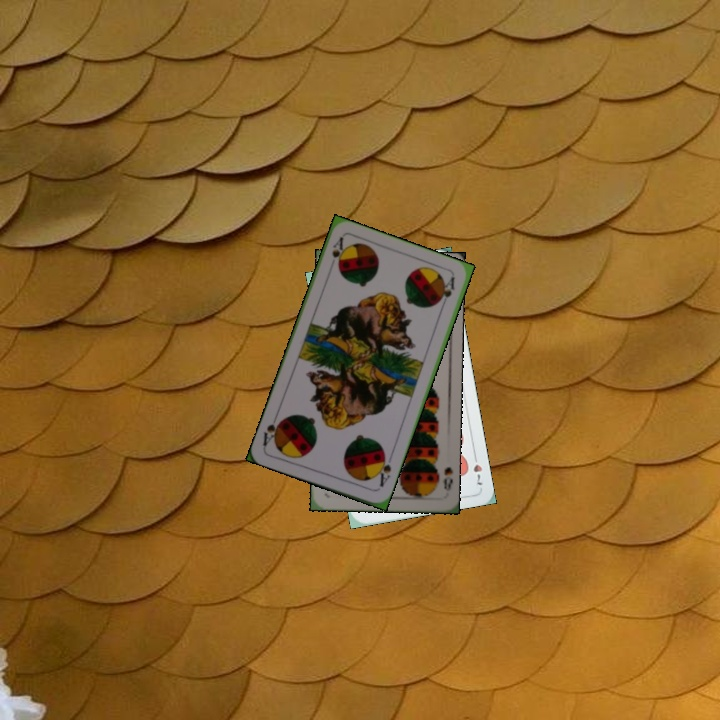H7: (469, 449, 485, 488)
S8: (439, 463, 455, 493)
SA: (372, 450, 394, 489), (328, 233, 348, 271)
